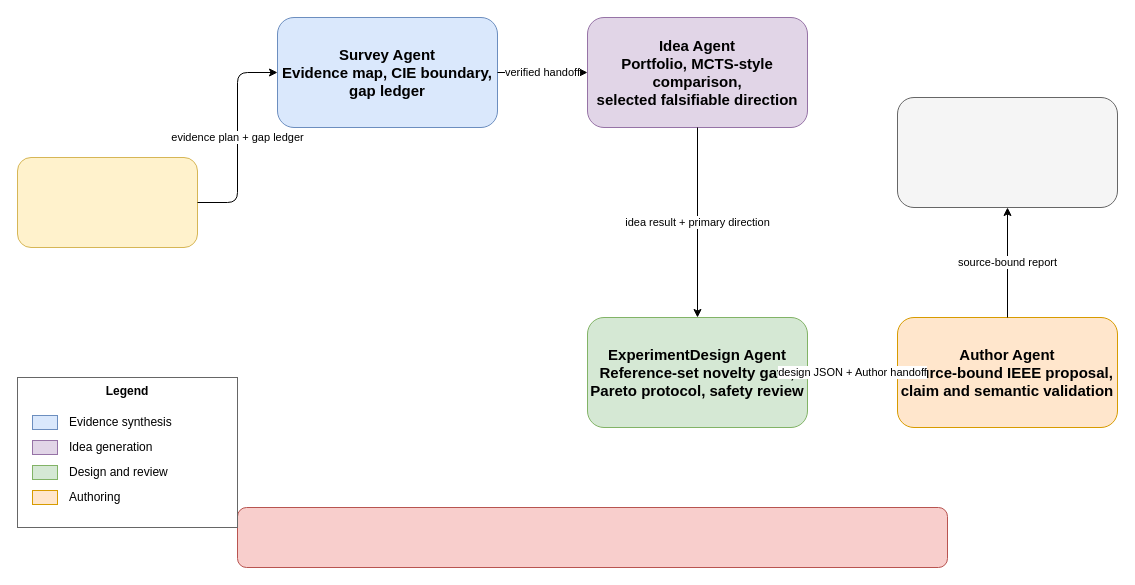
The diagram is 1135 pixels wide and 585 high, and some of its shapes have lost their labels. The shapes that lost their labels are listed below. From the top down, each one's centre as x and y in pixels, then its label:
[1007,152]: Outputs Survey • idea portfolio design-only protocol • 8–10 page report
[107,202]: Research question Can useful pigments still be discovered?
[592,537]: invariant: no observed results; no claim of a new fundamental human colour
